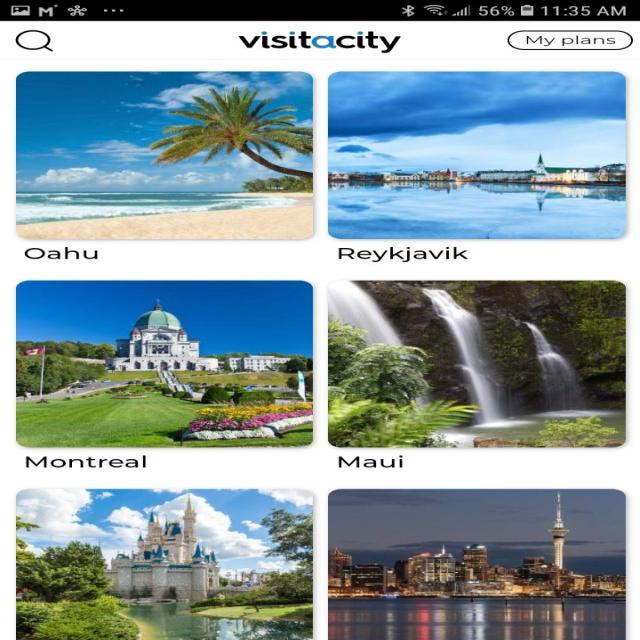Icon: (14, 30, 54, 52)
Image: (327, 280, 626, 448), (15, 280, 313, 448), (327, 71, 625, 239), (15, 71, 313, 239), (327, 488, 625, 640), (15, 488, 313, 640), (237, 31, 401, 53)
Text: (337, 246, 467, 262), (25, 454, 146, 468), (24, 246, 98, 259), (338, 454, 402, 468)
TextButton: (507, 30, 633, 50)
